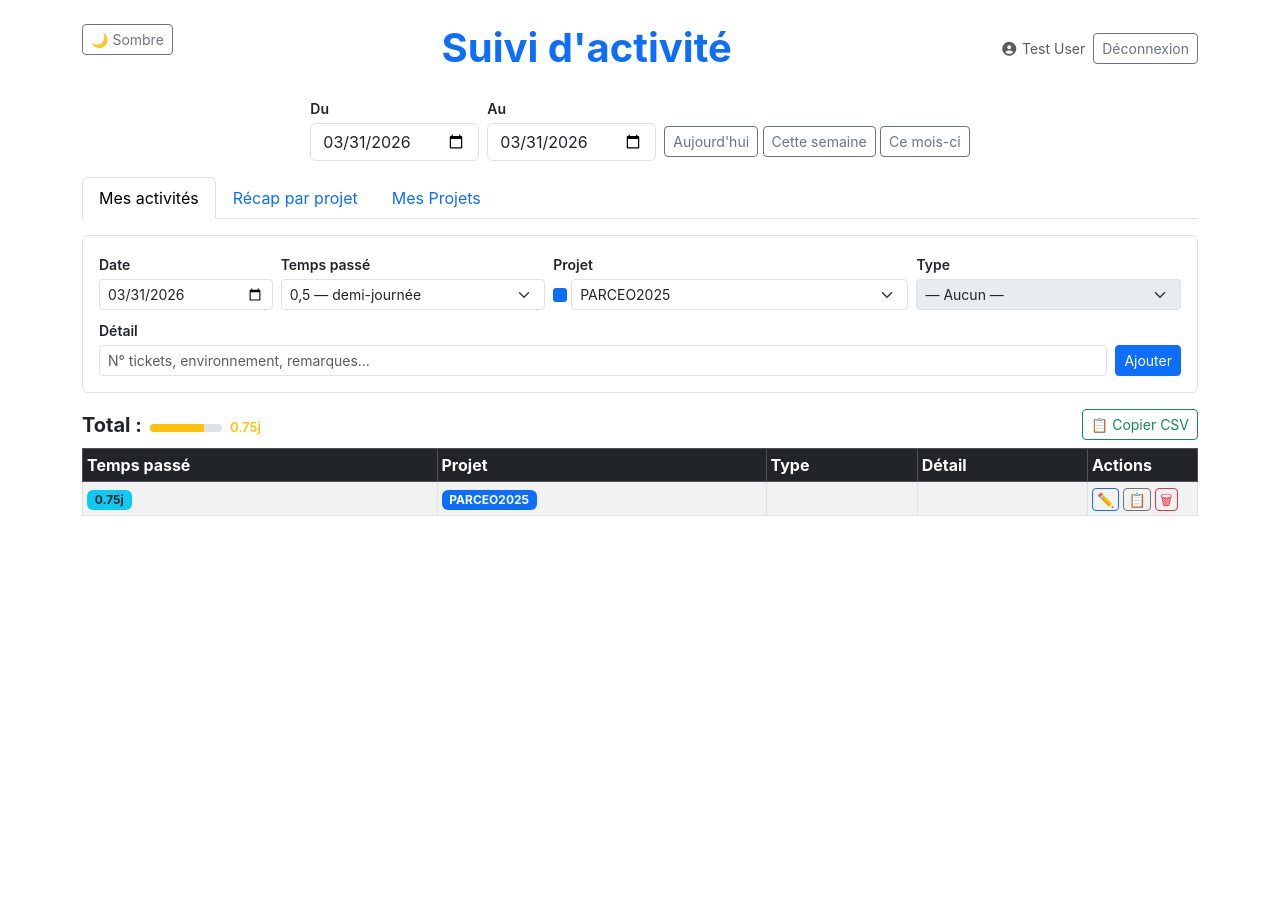
Alerte dépassement journalier — interface › affiche le modal quand le total du jour depasserait 1
The width and height of the screenshot is (1280, 900).
Click the button "Ajouter". click: click(1148, 360)
box: [1115,345,1181,376]
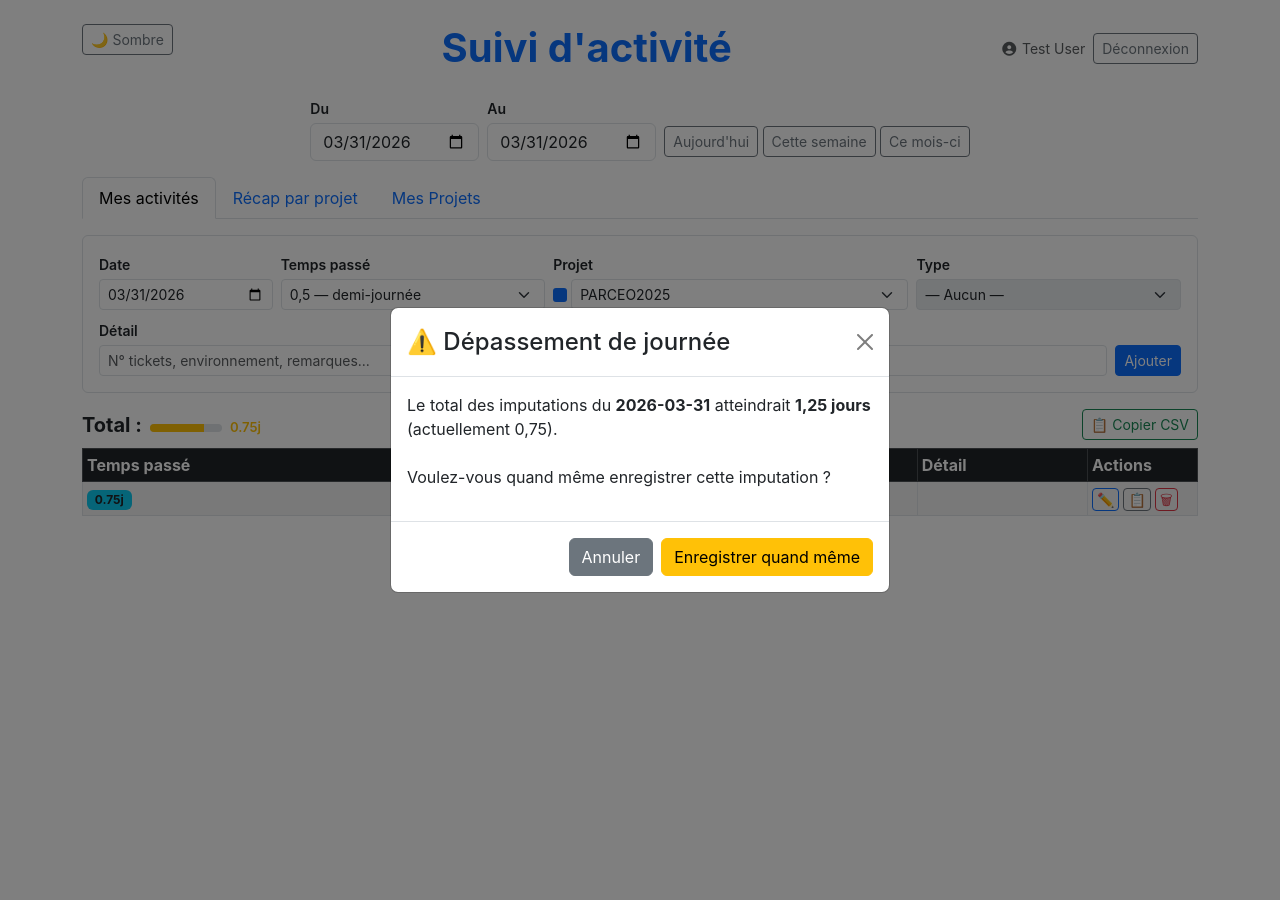
Check: the text "⚠️ Dépassement de journée" is shown, box [407,324,730,360]
